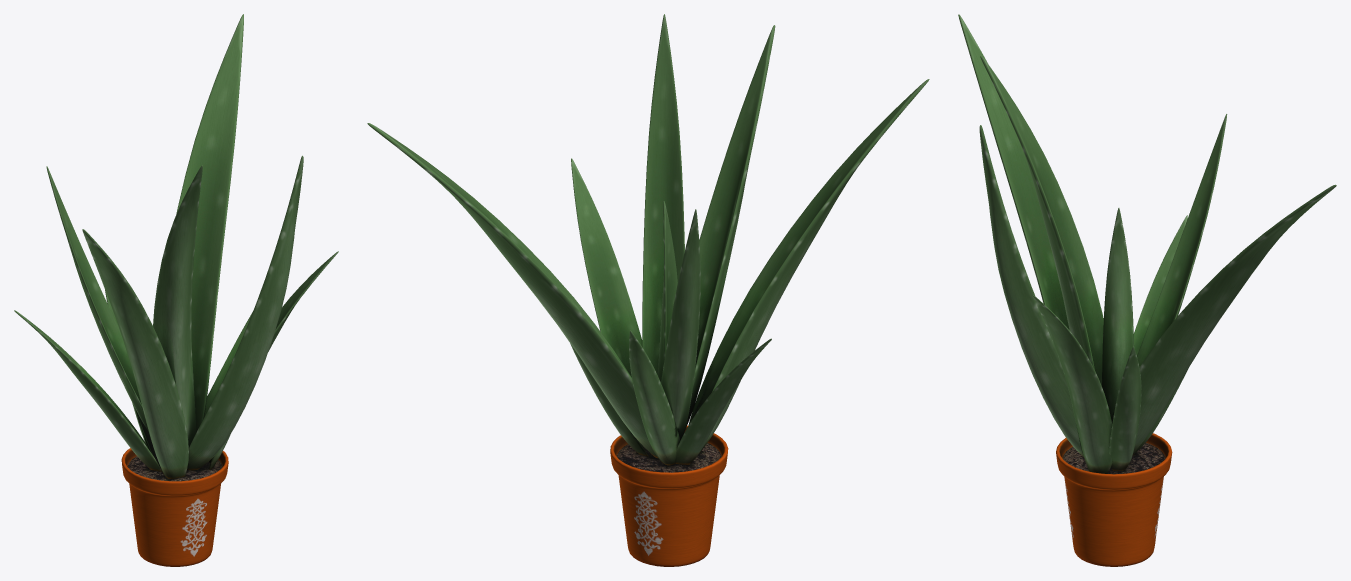
File: item.obj
The picture shows the model from 3 angles, left to right: view 1: azimuth 30°, elevation 25°; view 2: azimuth 150°, elevation 25°; view 3: azimuth 270°, elevation 25°; orthographic projection. The views are drawn at different scales.
Visible parts, largest first — view 1: item.002; view 2: item.002; view 3: item.002.
Part boxes in pixels (<box>): item.002: <box>14,14,338,566</box>; item.002: <box>367,14,929,566</box>; item.002: <box>958,14,1336,566</box>.
Bounding box in the file's own units: 5.47 × 6.87 × 4.94.
